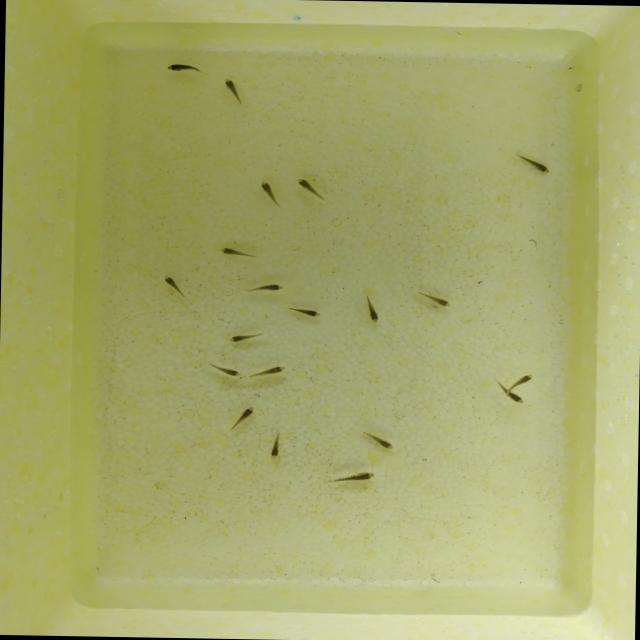fingerling: (351, 291, 390, 330), (355, 423, 401, 454), (511, 148, 557, 178), (324, 466, 378, 488), (412, 286, 457, 312), (209, 242, 263, 263), (215, 74, 250, 106), (290, 173, 327, 203), (227, 401, 260, 434), (280, 300, 328, 322), (222, 327, 270, 348), (252, 177, 284, 208), (260, 430, 288, 462), (249, 362, 291, 382), (159, 272, 188, 300), (239, 280, 287, 296), (208, 359, 244, 380), (162, 61, 206, 78), (509, 372, 533, 389), (500, 390, 526, 404)
